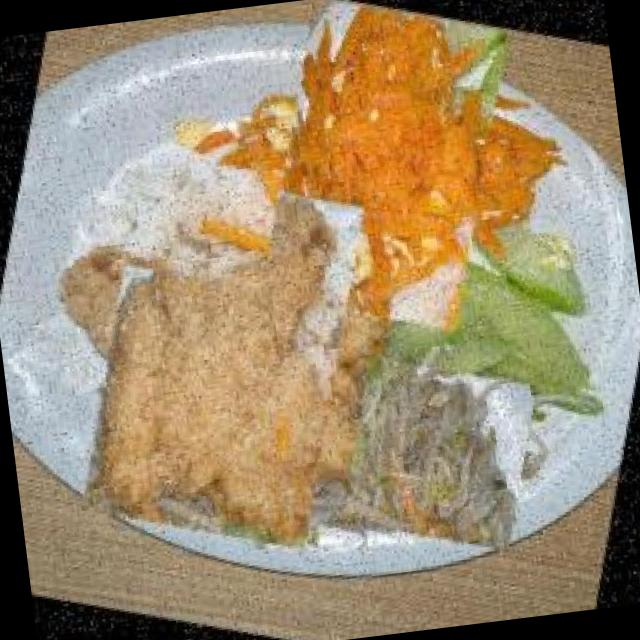carrot_eggs: (211, 0, 560, 339)
fried_chicken: (21, 157, 422, 558)
mung_bean_sprouts: (319, 334, 556, 571)
rice: (63, 132, 293, 312)
